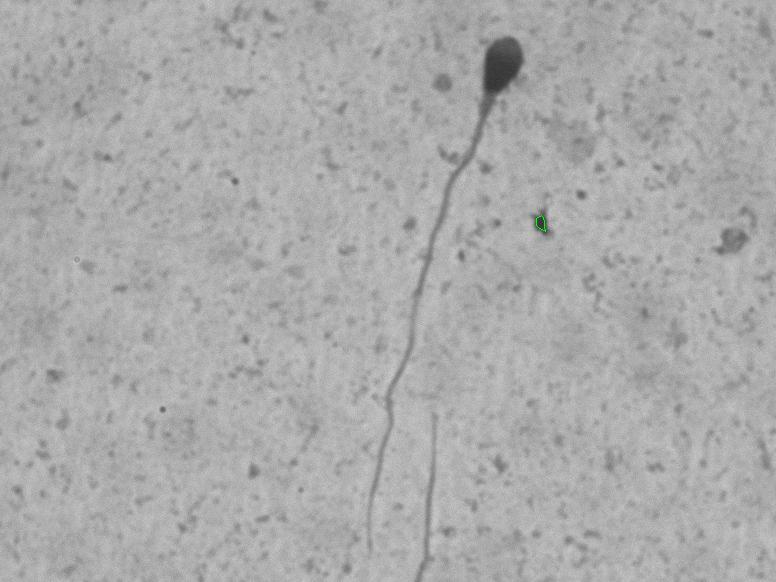Normal: (333, 21, 533, 551)
